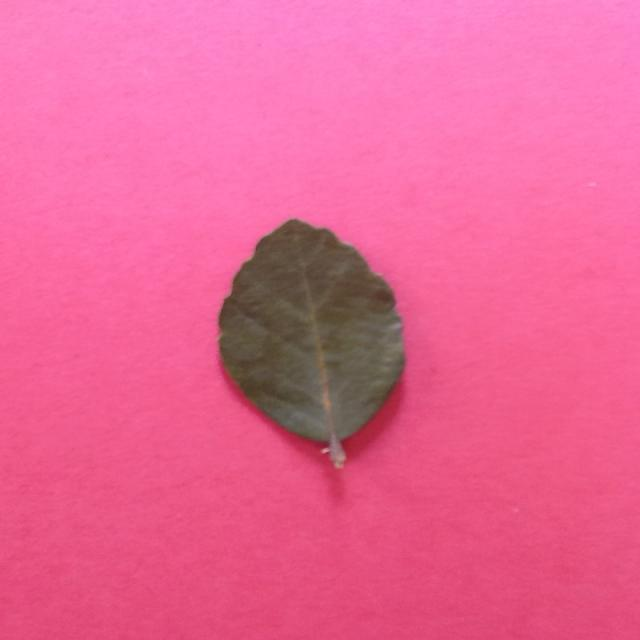foliage: (217, 220, 405, 470)
